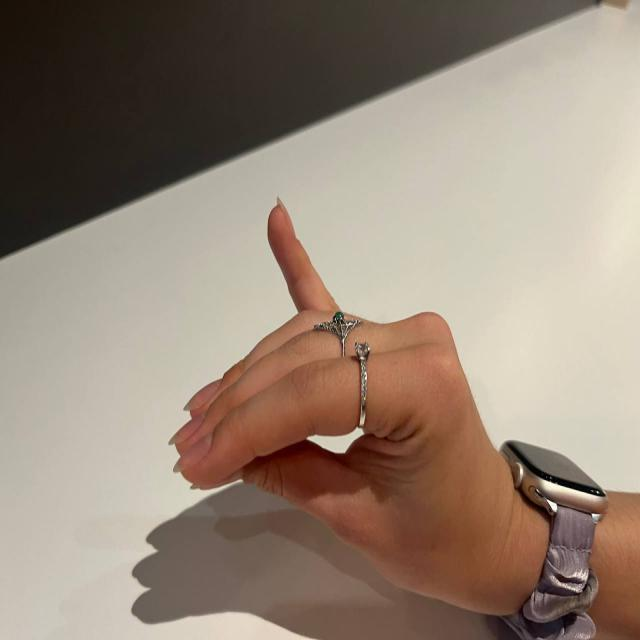iu: (170, 195, 515, 604)
